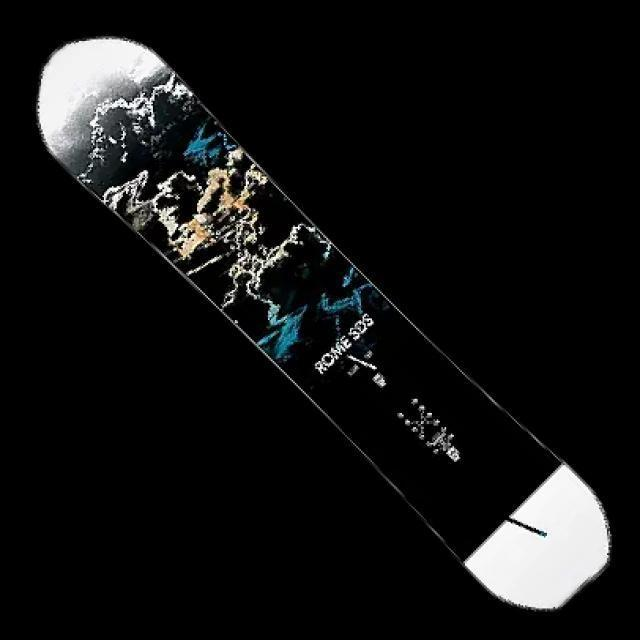Snowboard: (34, 34, 612, 612)
